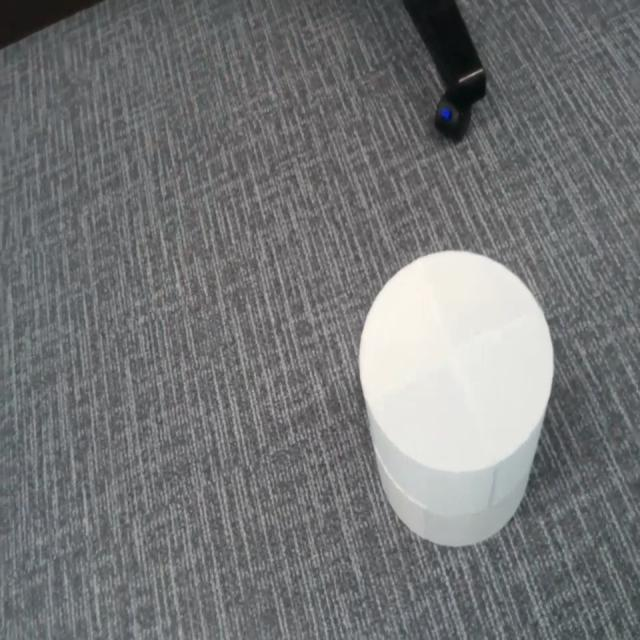cylinder: (357, 248, 556, 548)
